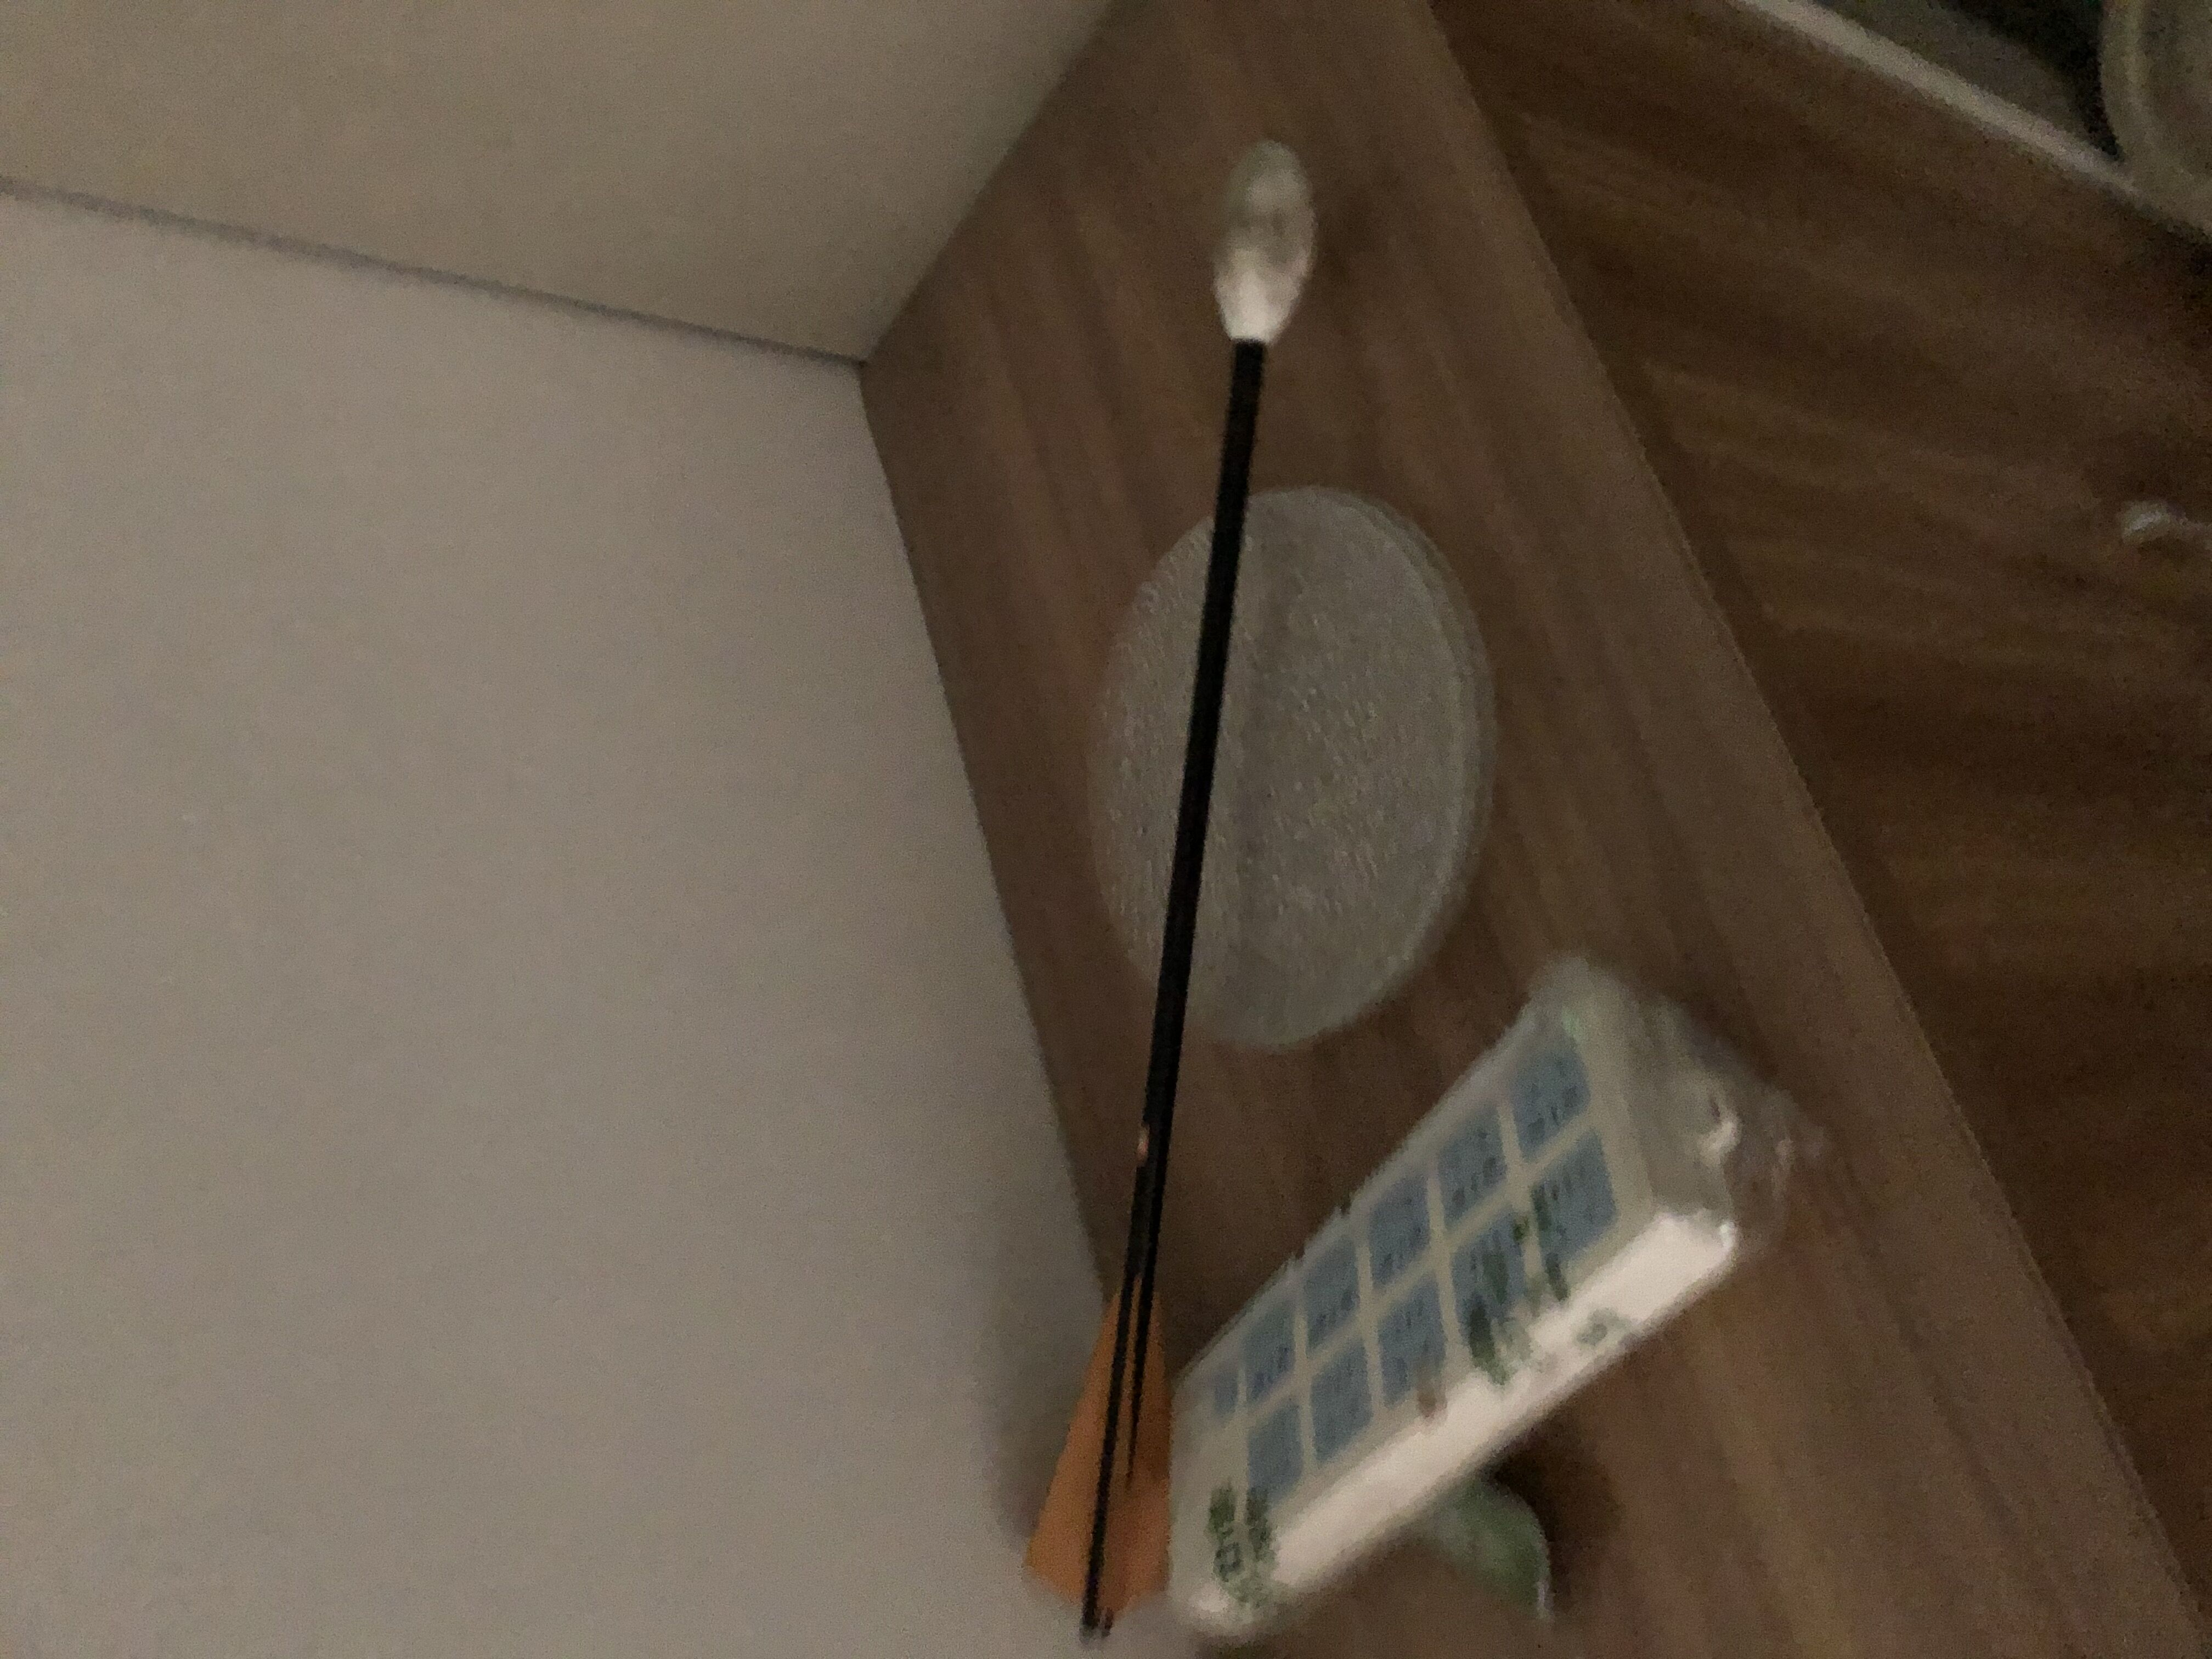arrow: (1021, 143, 1322, 1647)
arrowFront: (1212, 141, 1318, 350)
